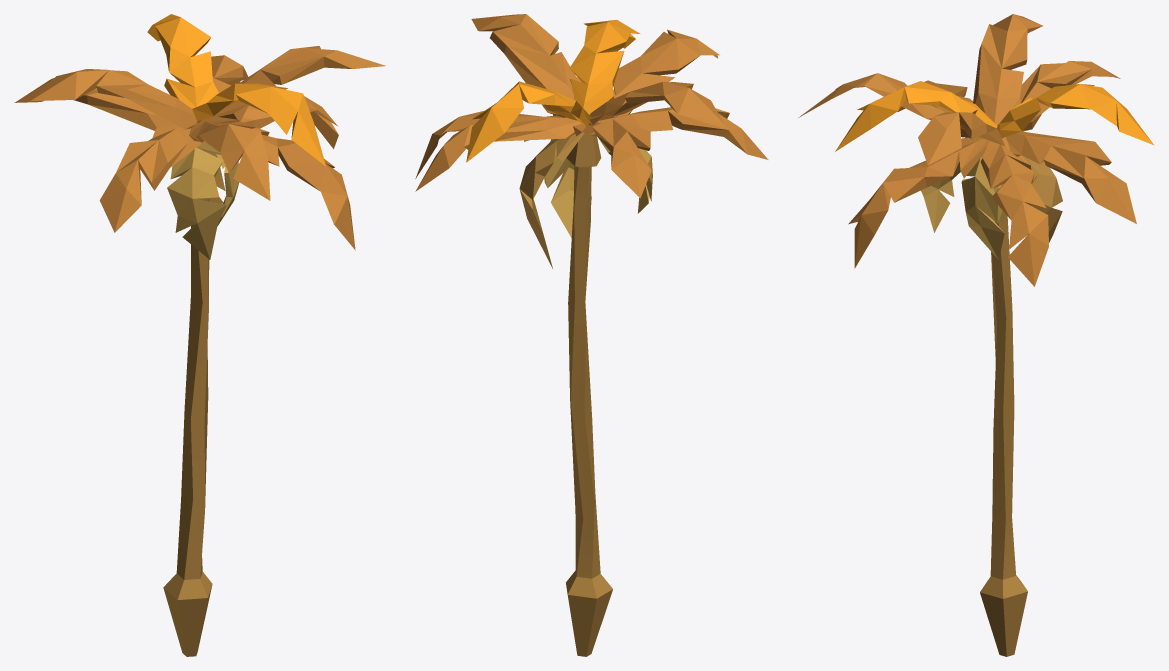
File: SM_Prop_Tree_Palm_02.fbx
The picture shows the model from 3 angles, left to right: view 1: azimuth 30°, elevation 25°; view 2: azimuth 150°, elevation 25°; view 3: azimuth 270°, elevation 25°; orthographic projection. The views are drawn at different scales.
Parts seen in each view (by area): view 1: SM_Prop_Tree_Palm_02; view 2: SM_Prop_Tree_Palm_02; view 3: SM_Prop_Tree_Palm_02.
Part boxes in pixels (x1,y1,x2,y2): SM_Prop_Tree_Palm_02: (14, 14, 385, 656); SM_Prop_Tree_Palm_02: (415, 14, 768, 656); SM_Prop_Tree_Palm_02: (798, 14, 1153, 656).
Size of the model in its own units: 187 by 350 by 193.
